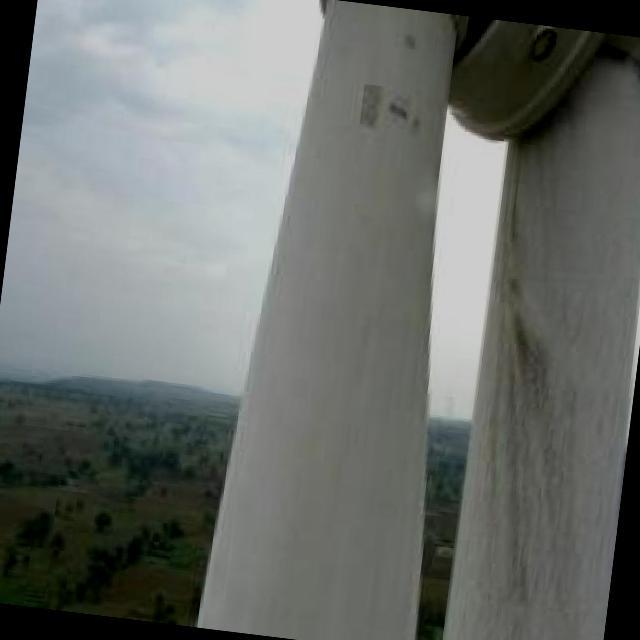Dirt: (445, 63, 640, 639)
